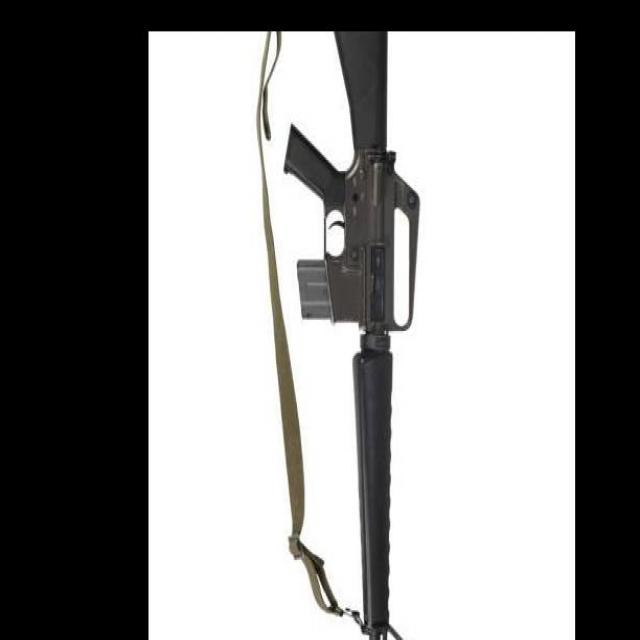heavy-weapon: (283, 34, 421, 640)
